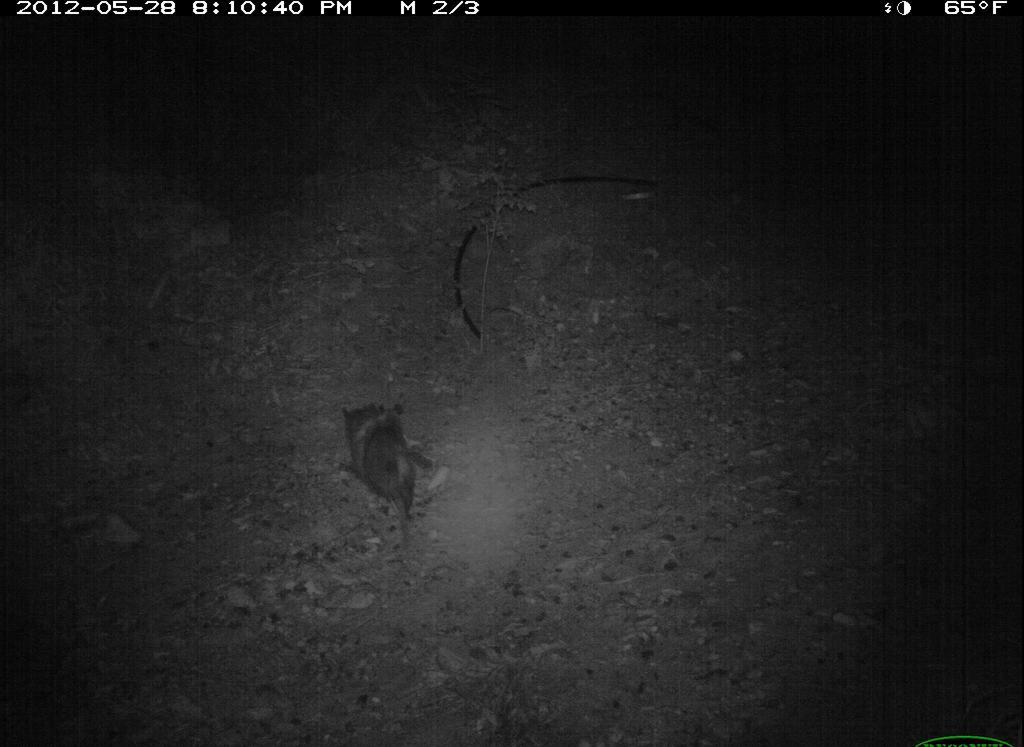opossum: (327, 391, 492, 555)
